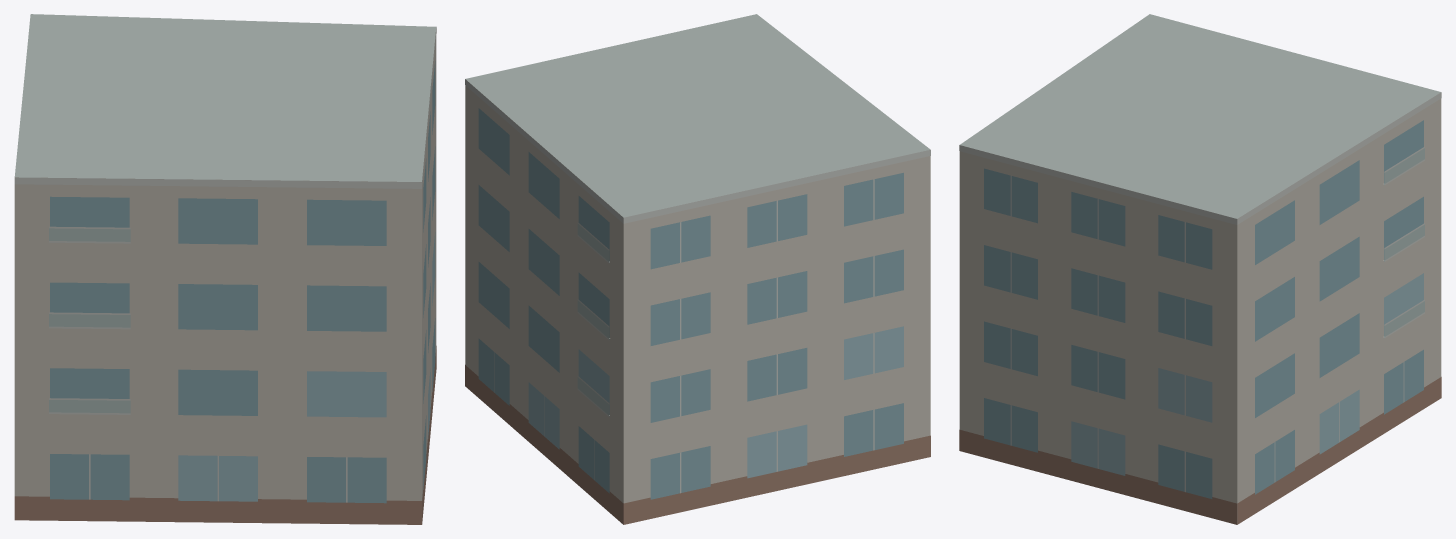
The model's file is survey-upis-32473629.glb.
3 renders of one model, left to right at view 1: azimuth 30°, elevation 25°; view 2: azimuth 150°, elevation 25°; view 3: azimuth 270°, elevation 25°, orthographic. The views are drawn at different scales.
Parts seen in each view (by area): view 1: survey-upis-32473629.tmp; view 2: survey-upis-32473629.tmp; view 3: survey-upis-32473629.tmp.
Part boxes in pixels (left/top/right/bottom): survey-upis-32473629.tmp: left=14, top=14, right=436, bottom=524; survey-upis-32473629.tmp: left=465, top=14, right=930, bottom=524; survey-upis-32473629.tmp: left=959, top=14, right=1441, bottom=524.
Size of the model in its own units: 17.54 by 12.2 by 17.43.
